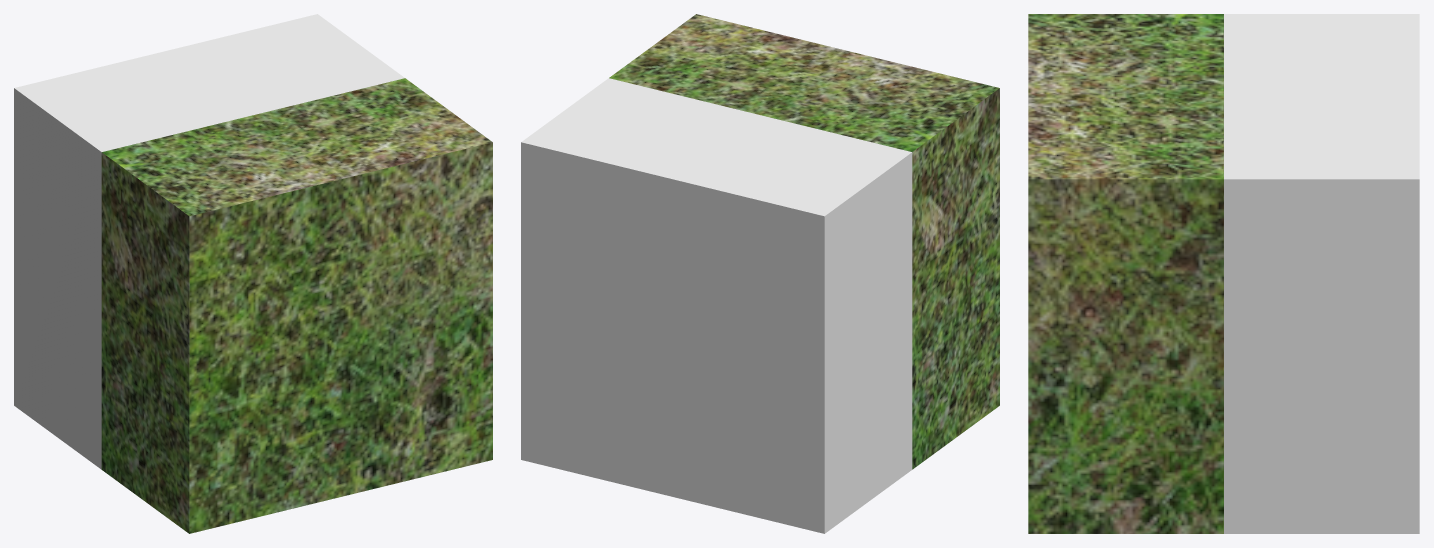
The model's file is MultiBox.obj.
3 renders of one model, left to right at view 1: azimuth 30°, elevation 25°; view 2: azimuth 150°, elevation 25°; view 3: azimuth 270°, elevation 25°, orthographic. The views are drawn at different scales.
Visible parts, largest first — view 1: Cube; view 2: Cube; view 3: Cube.
Part boxes in pixels (bbox=[...]): Cube: bbox=[14, 14, 492, 533]; Cube: bbox=[521, 14, 999, 533]; Cube: bbox=[1028, 14, 1419, 533].
Size of the model in its own units: 2 by 2 by 2.
2 materials, 2 textured.
